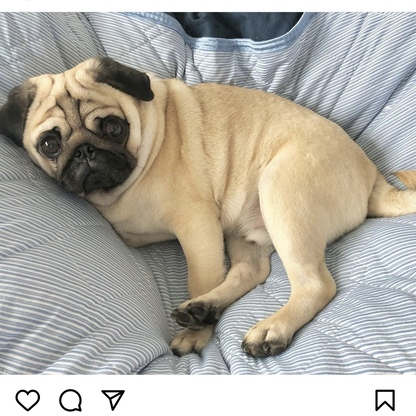Pug: (1, 51, 416, 363)
